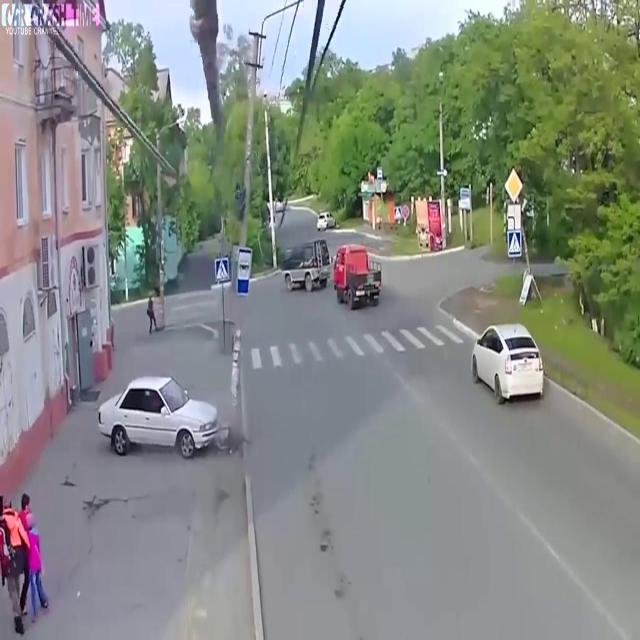accident: (93, 365, 247, 474)
non_accident: (280, 233, 386, 315)
